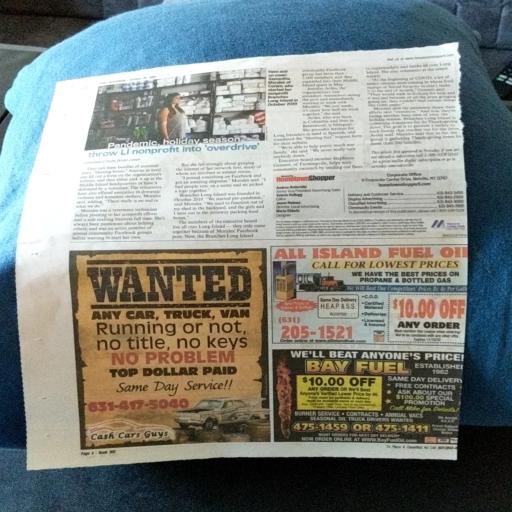paper: (24, 40, 481, 512)
